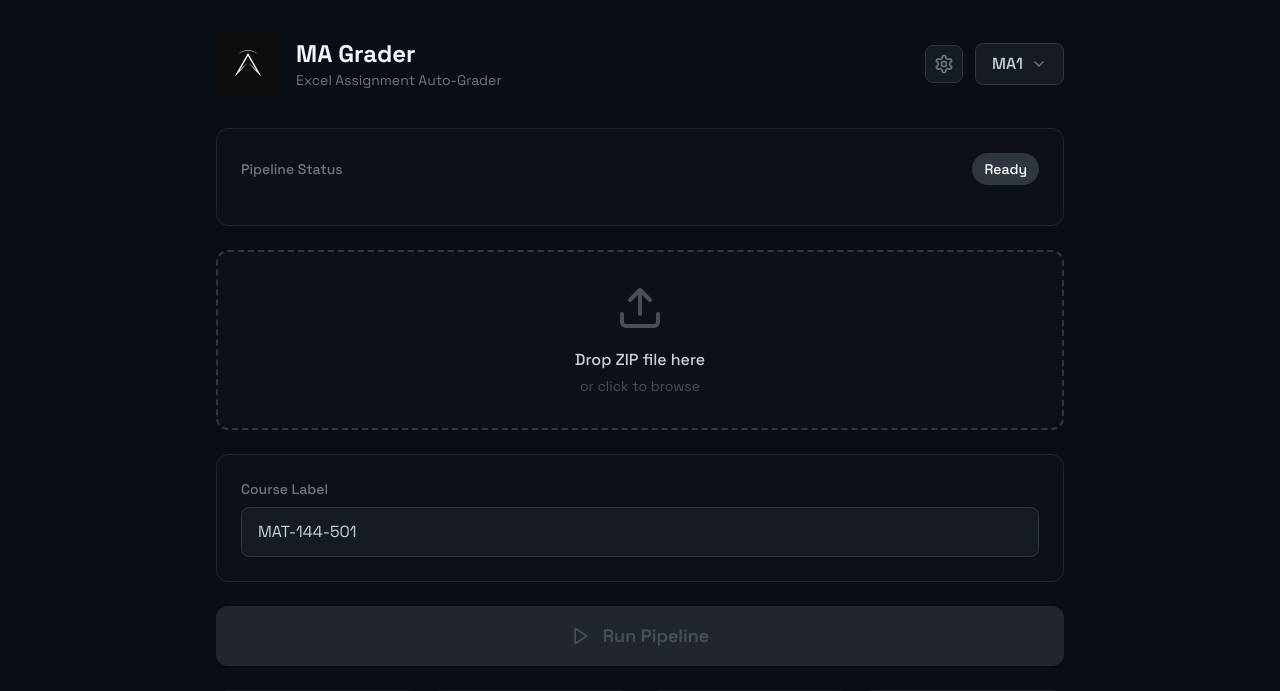
Test: App Component › Settings Modal › opens settings when settings button clicked
Click the button titled "Settings".
click(944, 64)  # box [925,45,963,83]
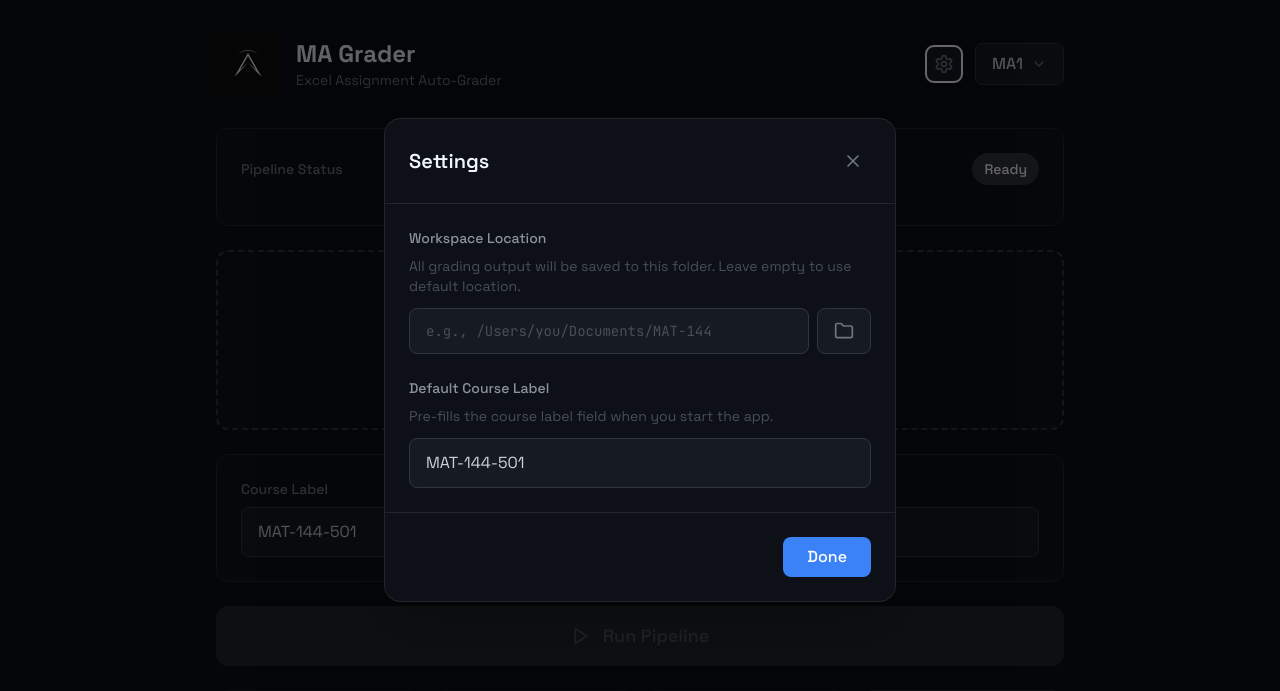
Now the heading "Settings" is shown, box [409,147,489,175]
